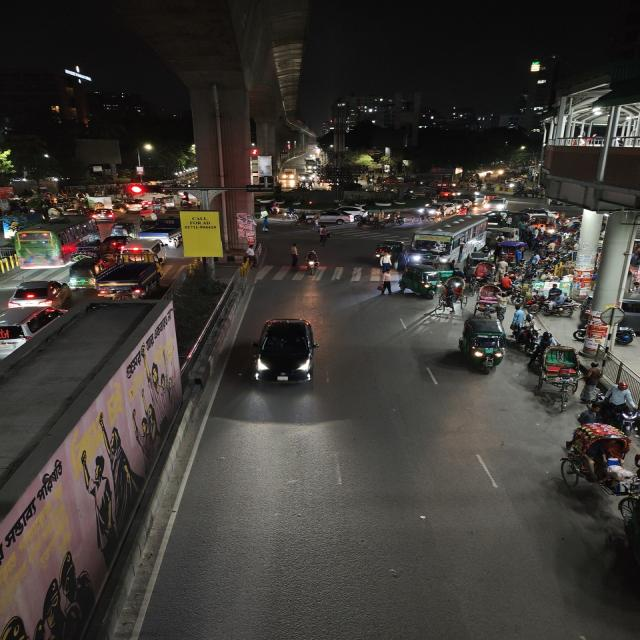bus: (15, 214, 104, 268), (407, 210, 491, 264)
car: (241, 315, 326, 397), (0, 303, 62, 359), (11, 276, 71, 310), (123, 238, 168, 260), (303, 208, 355, 226), (91, 206, 117, 222)
cng: (460, 316, 510, 376), (398, 264, 440, 302), (65, 256, 104, 288), (372, 238, 402, 264), (108, 221, 136, 238)
motorcycle: (593, 386, 636, 431), (532, 294, 577, 316), (302, 248, 321, 274)
pedestrian: (380, 268, 392, 297), (288, 242, 302, 266), (245, 244, 259, 266), (376, 251, 392, 270)
pickup_van: (96, 250, 171, 303), (137, 215, 190, 251)
rickshaw: (562, 418, 640, 520), (538, 342, 581, 409), (434, 276, 472, 317), (472, 282, 502, 316), (474, 261, 493, 286)
